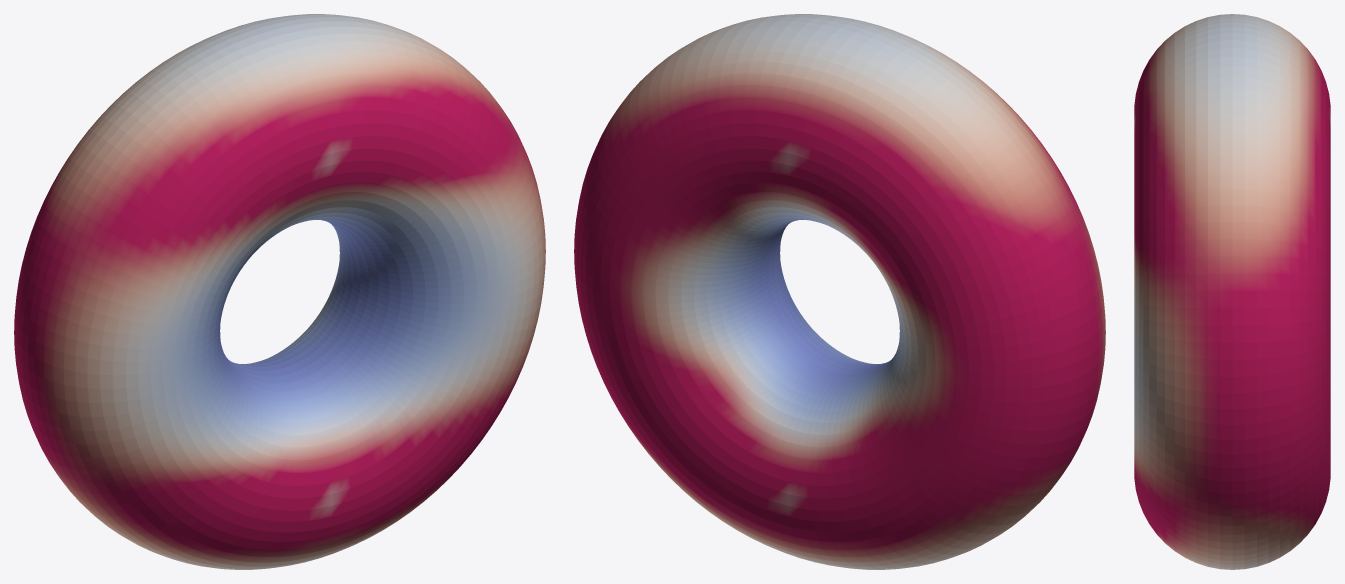
3 renders of one model, left to right at view 1: azimuth 30°, elevation 25°; view 2: azimuth 150°, elevation 25°; view 3: azimuth 270°, elevation 25°, orthographic. The views are drawn at different scales.
Visible parts, largest first — view 1: world; view 2: world; view 3: world.
Boxes of the visible parts, box(x1,y1,x2,y2) form: world: box(14, 14, 545, 569); world: box(574, 14, 1105, 569); world: box(1134, 14, 1330, 569).
Bounding box in the file's own units: 23.73 × 23.73 × 8.38.
